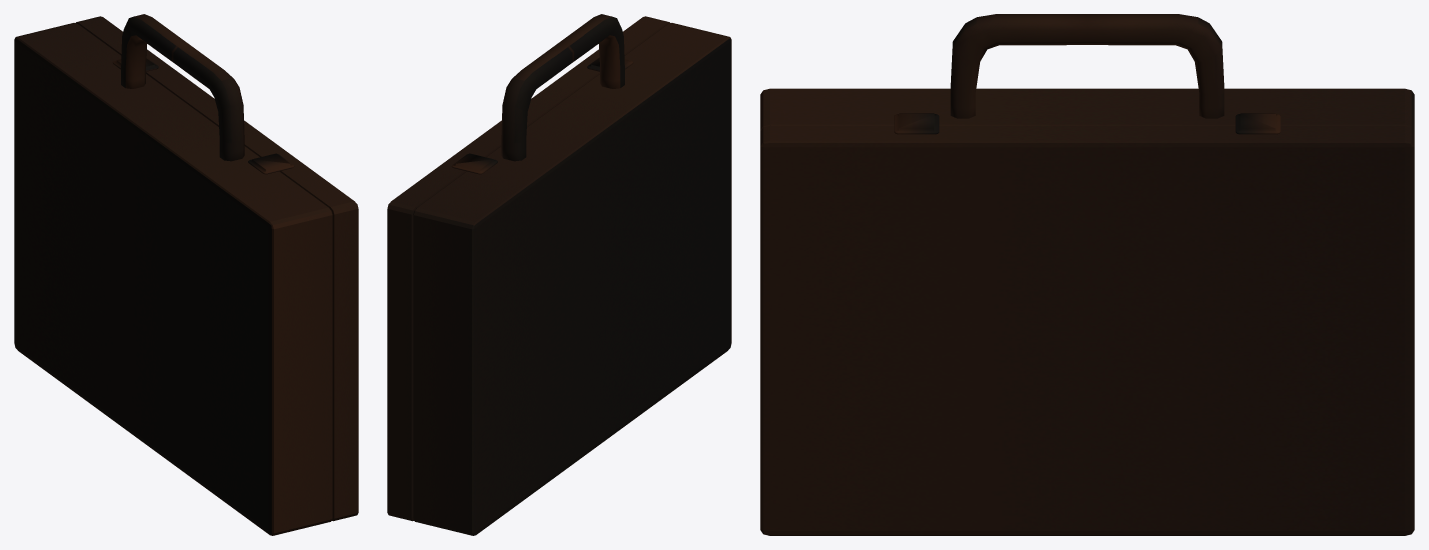
Rendered from Maletin.fbx.
The picture shows the model from 3 angles, left to right: view 1: azimuth 30°, elevation 25°; view 2: azimuth 150°, elevation 25°; view 3: azimuth 270°, elevation 25°; orthographic projection. The views are drawn at different scales.
Parts seen in each view (by area): view 1: Maletin; view 2: Maletin; view 3: Maletin.
Boxes of the visible parts, left/top/right/bottom form: Maletin: left=14, top=14, right=358, bottom=535; Maletin: left=387, top=14, right=731, bottom=535; Maletin: left=760, top=14, right=1414, bottom=535.
Bounding box in the file's own units: 58.25 × 248 × 300.
1 material, 1 textured.
